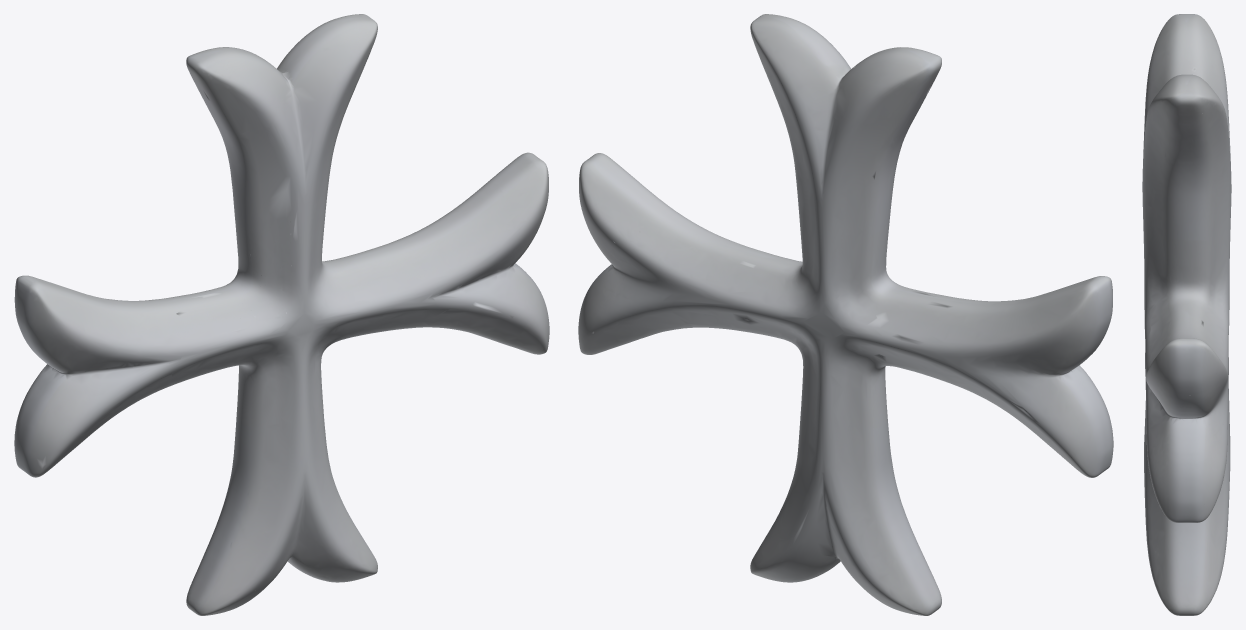
File: cross.glb
3 renders of one model, left to right at view 1: azimuth 30°, elevation 25°; view 2: azimuth 150°, elevation 25°; view 3: azimuth 270°, elevation 25°, orthographic. The views are drawn at different scales.
Parts seen in each view (by area): view 1: material; view 2: material; view 3: material.
Part boxes in pixels (x1,y1,x2,y2): material: (14,14,549,615); material: (578,14,1113,615); material: (1142,14,1231,615).
Size of the model in its own units: 1.13 by 1.15 by 0.1762.
1 material, 1 textured.
